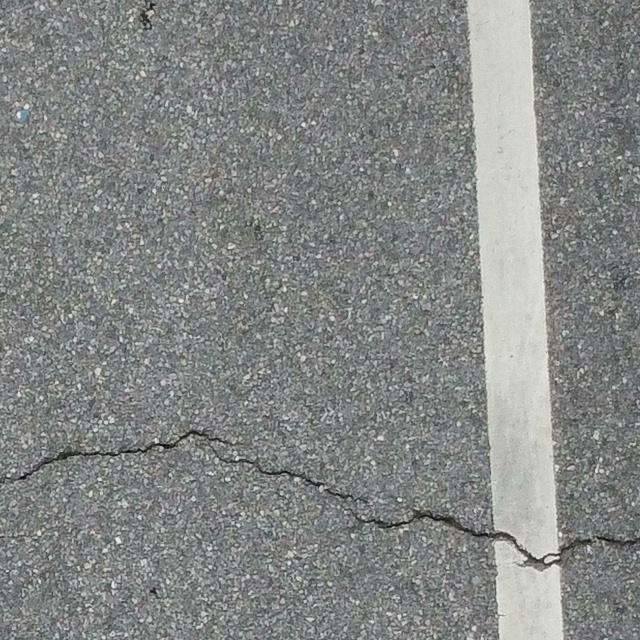TransverseCrack: (2, 428, 640, 571)
